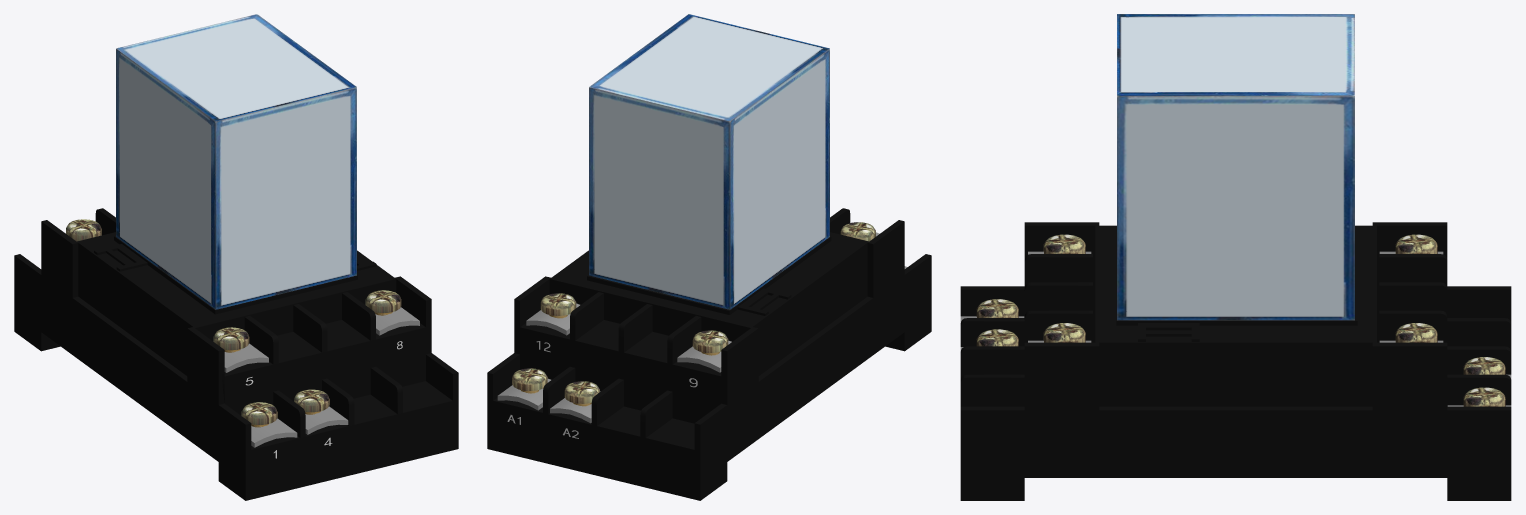
The model's file is ZJ_jidianqi.FBX.
3 views of the same model, side by side, from view 1: azimuth 30°, elevation 25°; view 2: azimuth 150°, elevation 25°; view 3: azimuth 270°, elevation 25° (orthographic). The views are drawn at different scales.
Visible parts, largest first — view 1: ZJ_jidianqi23, ZJ_jidianqi04, ZJ_jidianqi10, ZJ_jidianqi35, ZJ_jidianqi27, ZJ_jidianqi11, ZJ_jidianqi39, ZJ_jidianqi28, ZJ_jidianqi36, ZJ_jidianqi14, ZJ_jidianqi32, ZJ_jidianqi25; view 2: ZJ_jidianqi23, ZJ_jidianqi04, ZJ_jidianqi09, ZJ_jidianqi24, ZJ_jidianqi12, ZJ_jidianqi25, ZJ_jidianqi13, ZJ_jidianqi47, ZJ_jidianqi40, ZJ_jidianqi46, ZJ_jidianqi45, ZJ_jidianqi11; view 3: ZJ_jidianqi23, ZJ_jidianqi04, ZJ_jidianqi10, ZJ_jidianqi09, ZJ_jidianqi24, ZJ_jidianqi27, ZJ_jidianqi12, ZJ_jidianqi11, ZJ_jidianqi25, ZJ_jidianqi28, ZJ_jidianqi13, ZJ_jidianqi14.
Part boxes in pixels (x1,y1,x2,y2): ZJ_jidianqi23: (14, 220, 458, 500); ZJ_jidianqi04: (116, 14, 356, 309); ZJ_jidianqi10: (244, 292, 402, 437); ZJ_jidianqi35: (251, 418, 297, 447); ZJ_jidianqi27: (365, 290, 401, 315); ZJ_jidianqi11: (213, 327, 249, 352); ZJ_jidianqi39: (224, 343, 268, 372); ZJ_jidianqi28: (241, 402, 277, 427); ZJ_jidianqi36: (375, 307, 419, 335); ZJ_jidianqi14: (294, 389, 329, 414); ZJ_jidianqi32: (305, 406, 348, 434); ZJ_jidianqi25: (66, 219, 101, 241); ZJ_jidianqi23: (487, 220, 931, 500); ZJ_jidianqi04: (589, 14, 829, 309); ZJ_jidianqi09: (543, 292, 701, 437); ZJ_jidianqi24: (540, 293, 576, 318); ZJ_jidianqi12: (512, 368, 547, 393); ZJ_jidianqi25: (692, 330, 728, 355); ZJ_jidianqi13: (564, 381, 599, 406); ZJ_jidianqi47: (497, 378, 550, 410); ZJ_jidianqi40: (677, 340, 731, 372); ZJ_jidianqi46: (526, 303, 579, 335); ZJ_jidianqi45: (550, 391, 600, 423); ZJ_jidianqi11: (840, 222, 875, 241); ZJ_jidianqi23: (960, 222, 1511, 500); ZJ_jidianqi04: (1117, 14, 1354, 320); ZJ_jidianqi10: (960, 254, 1092, 406); ZJ_jidianqi09: (1379, 254, 1511, 406); ZJ_jidianqi24: (1395, 323, 1437, 342); ZJ_jidianqi27: (1043, 323, 1085, 342); ZJ_jidianqi12: (1463, 387, 1505, 406); ZJ_jidianqi11: (1043, 234, 1085, 253); ZJ_jidianqi25: (1395, 234, 1437, 253); ZJ_jidianqi28: (976, 299, 1018, 317); ZJ_jidianqi13: (1463, 357, 1505, 374); ZJ_jidianqi14: (976, 329, 1018, 346).
Bounding box in the file's own units: 13.43 × 19.42 × 25.27.
9 materials, 6 textured.
